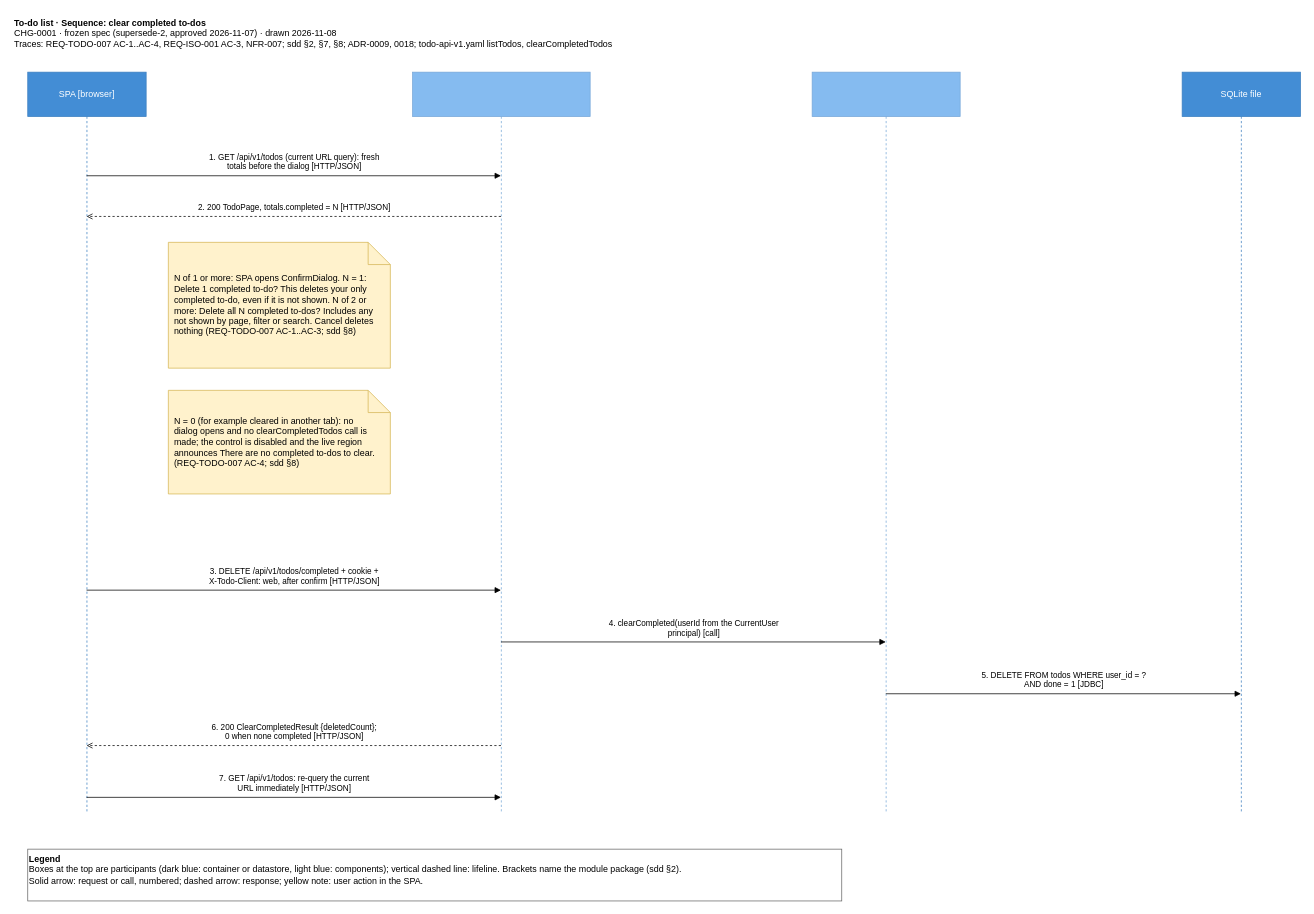
This 1314x914 diagram has some shape labels left out. The shapes that lost their labels are listed below. From the top down, each one's box as (x1, y1, x2, y2) in pixels, then its label:
(412, 71, 590, 812): Filters + TodoController [auth, common, todo]
(811, 71, 960, 812): TodoService + TodoRepository [todo]
